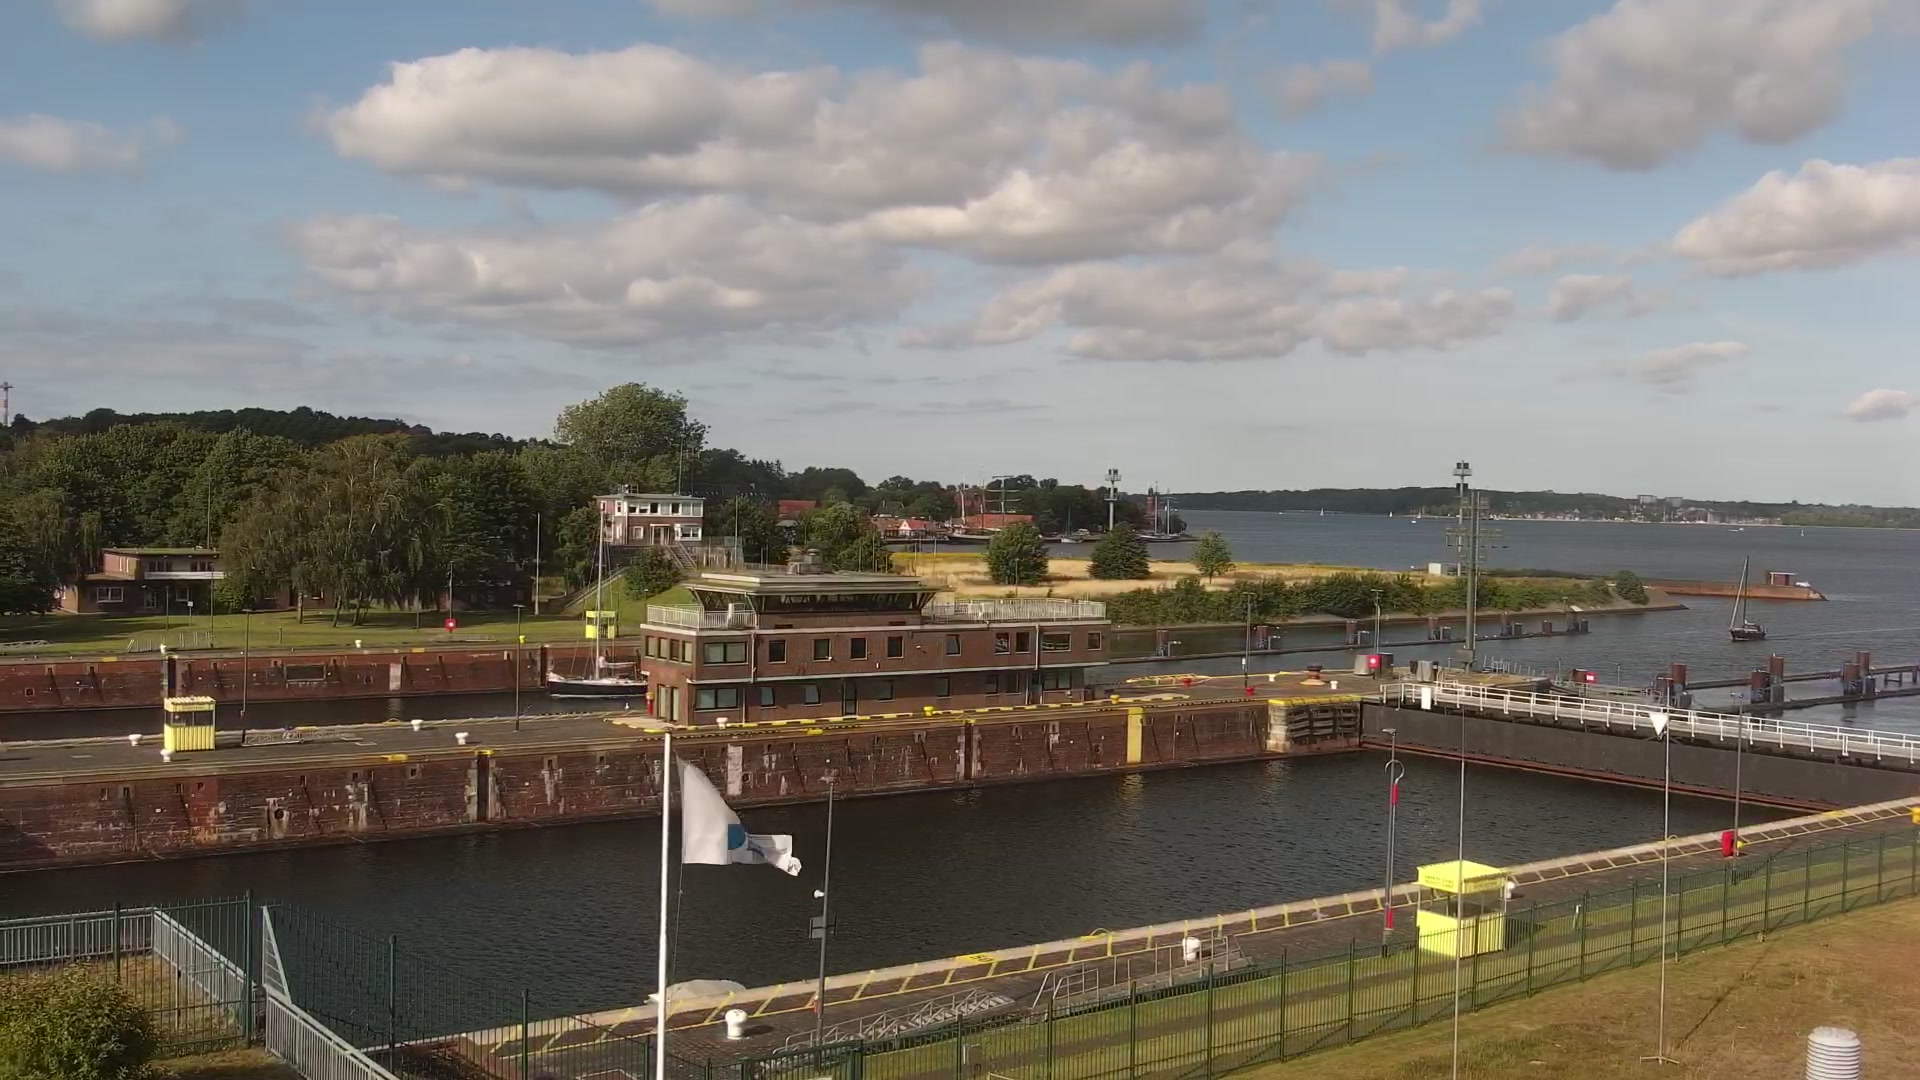sea: (547, 506, 647, 698), (942, 462, 1022, 543), (1727, 554, 1767, 640), (1139, 487, 1180, 541), (1059, 502, 1083, 542), (1411, 508, 1418, 524), (1416, 508, 1423, 520), (1319, 506, 1325, 517), (1389, 510, 1394, 518), (1738, 526, 1745, 531), (1276, 510, 1283, 514)
